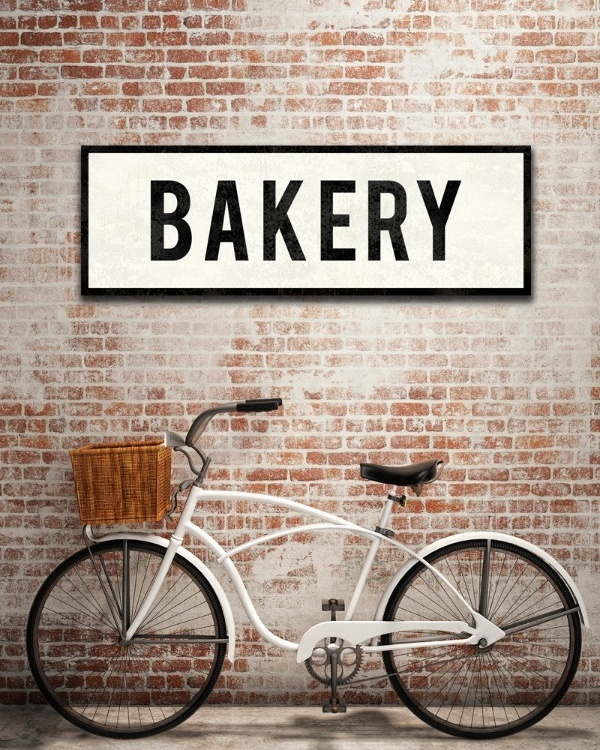text: (161, 178, 176, 262), (177, 178, 192, 262), (193, 178, 208, 262), (209, 178, 224, 262), (225, 178, 240, 262), (241, 178, 256, 262), (257, 178, 272, 262), (273, 178, 288, 262), (289, 178, 304, 262), (305, 178, 320, 262), (321, 178, 336, 262), (337, 178, 352, 262), (353, 178, 368, 262), (369, 178, 384, 262), (385, 178, 400, 262), (401, 178, 416, 262), (417, 178, 432, 262), (433, 178, 448, 262), (449, 178, 464, 262), (151, 178, 160, 262)
